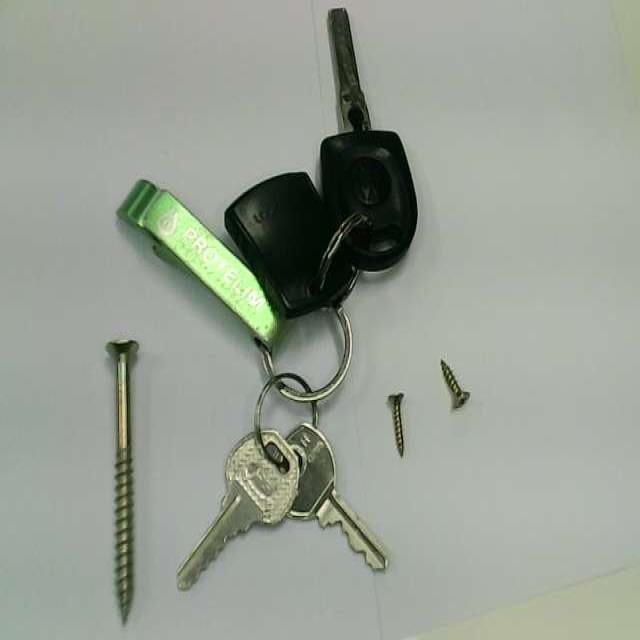Parafuso: (107, 340, 137, 619), (440, 360, 469, 409), (388, 394, 403, 457)
